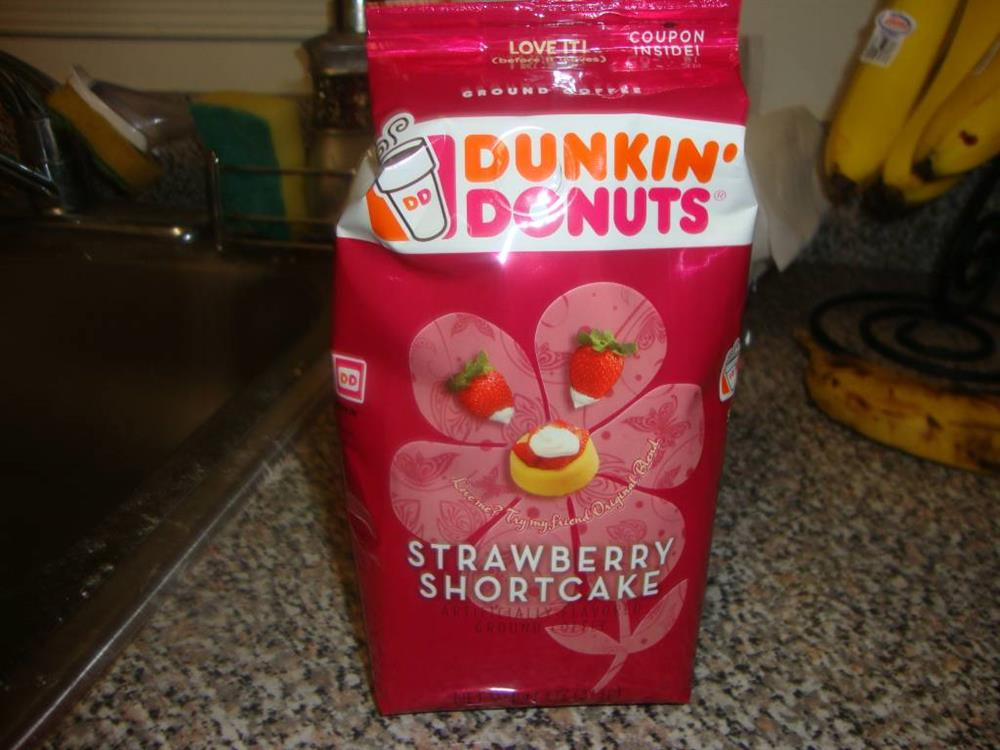Dunkin_Donuts: (363, 108, 745, 244)
